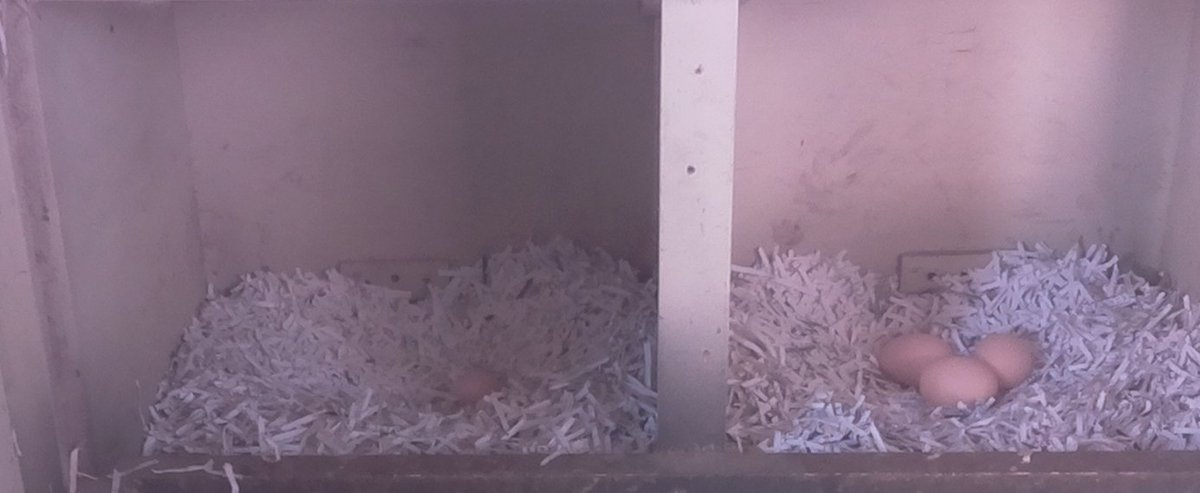egg: (916, 352, 1000, 413), (873, 327, 959, 386), (968, 331, 1038, 389)
